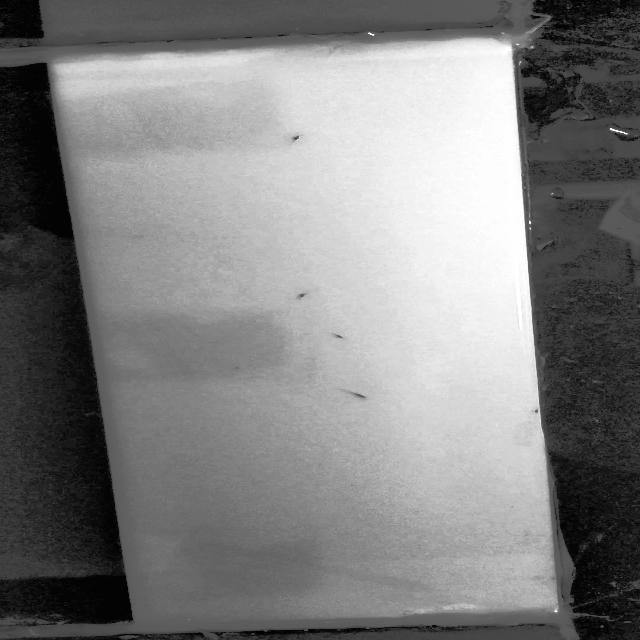shrimp: (334, 380, 375, 401), (282, 129, 308, 147), (289, 288, 315, 304), (321, 327, 349, 340), (524, 405, 543, 417)
